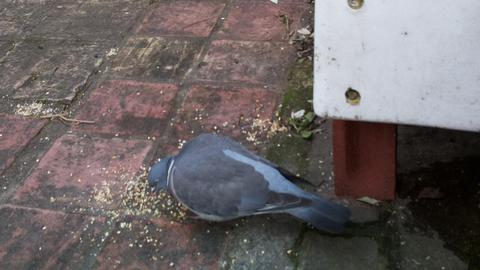wood pigeon: (146, 132, 354, 236)
